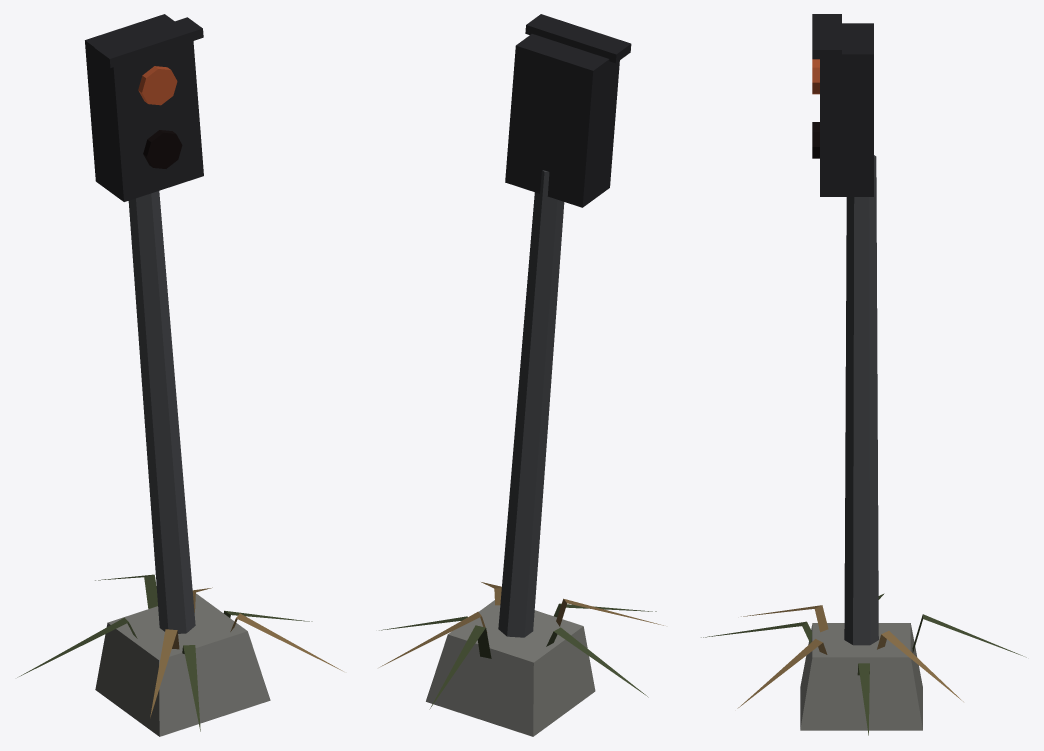
Rendered from scablands_rail_marker.glb.
The picture shows the model from 3 angles, left to right: view 1: azimuth 30°, elevation 25°; view 2: azimuth 150°, elevation 25°; view 3: azimuth 270°, elevation 25°; orthographic projection. The views are drawn at different scales.
Visible parts, largest first — view 1: scablands_rail_marker; view 2: scablands_rail_marker; view 3: scablands_rail_marker.
Boxes of the visible parts, x1=… form: scablands_rail_marker: x1=17, y1=14, x2=343, y2=736; scablands_rail_marker: x1=379, y1=14, x2=663, y2=736; scablands_rail_marker: x1=701, y1=14, x2=1026, y2=735.
Bounding box in the file's own units: 1.31 × 2.97 × 1.35.
